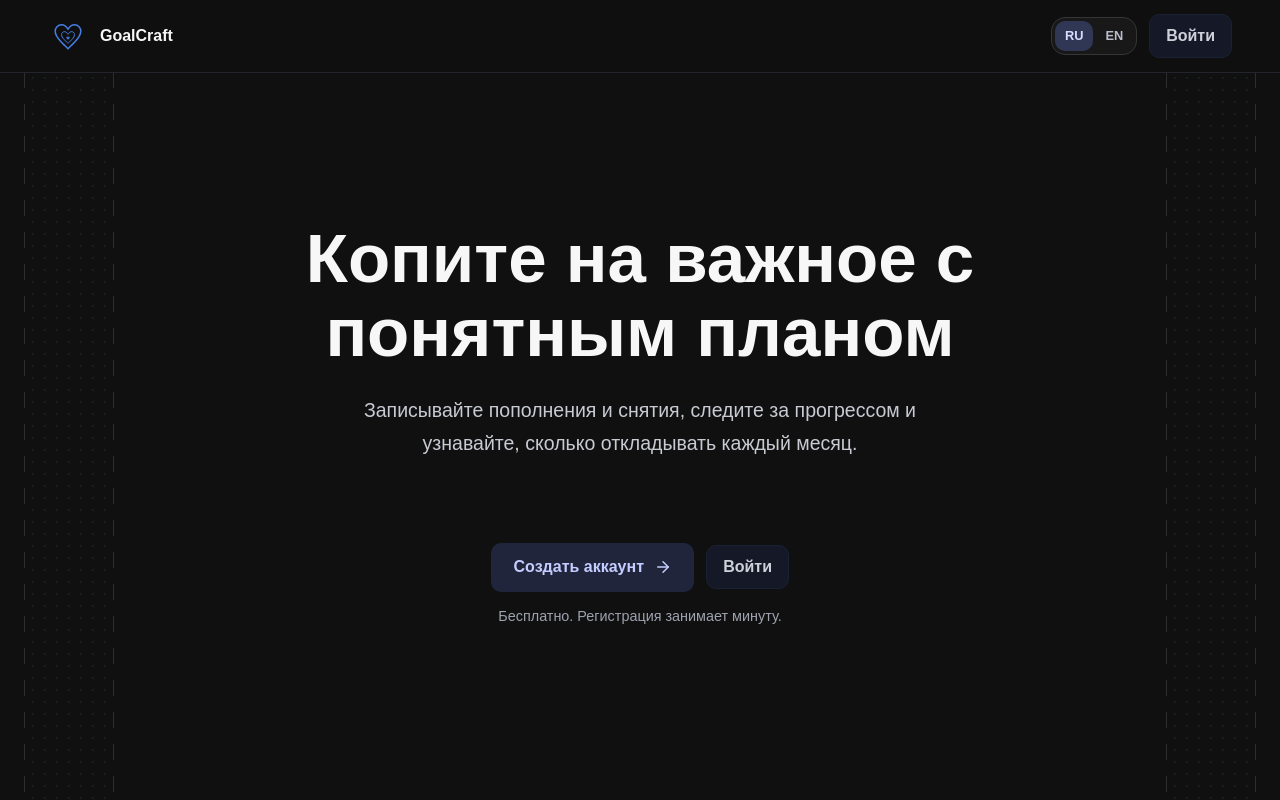
inherits the welcome language and persists profile language changes across navigation
Click the button "EN": point(1114, 36) [1095,21,1133,51]
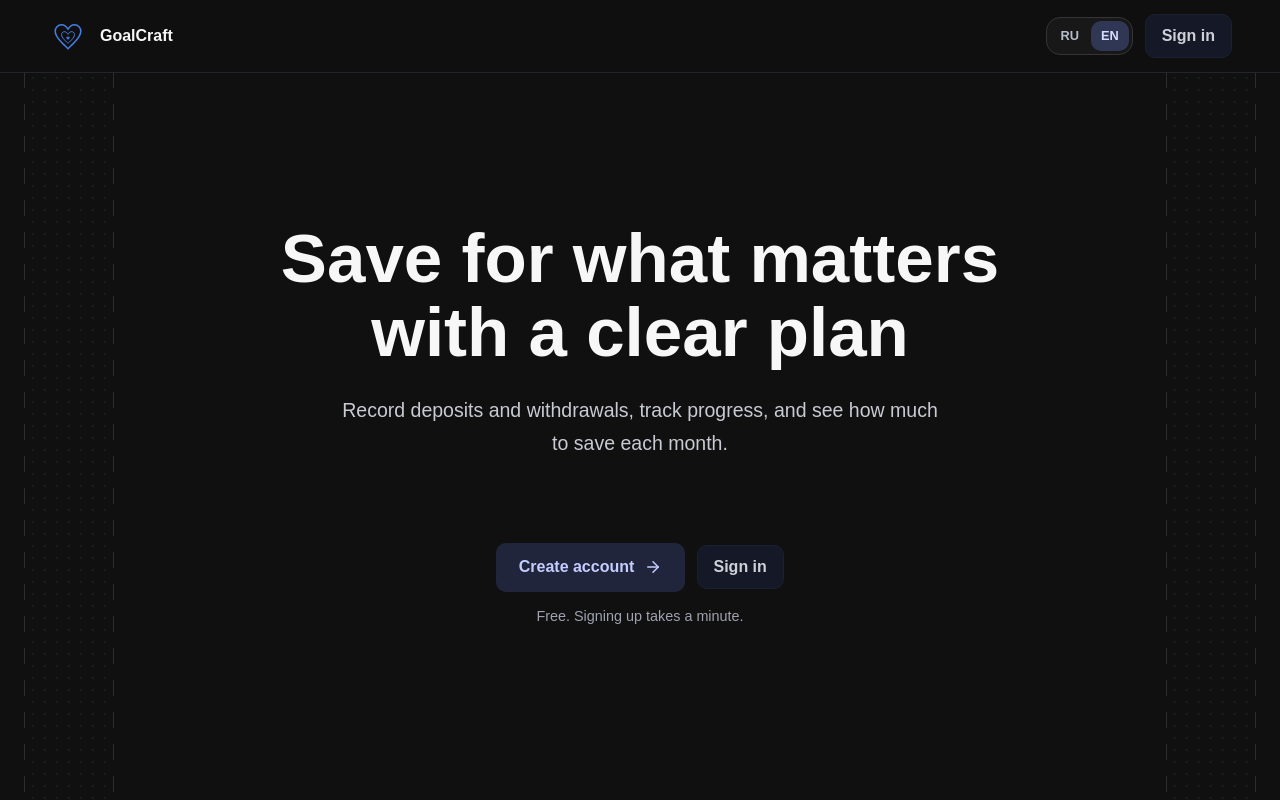
Click the 1st button "Sign in": point(1188, 36) [1145,14,1232,58]
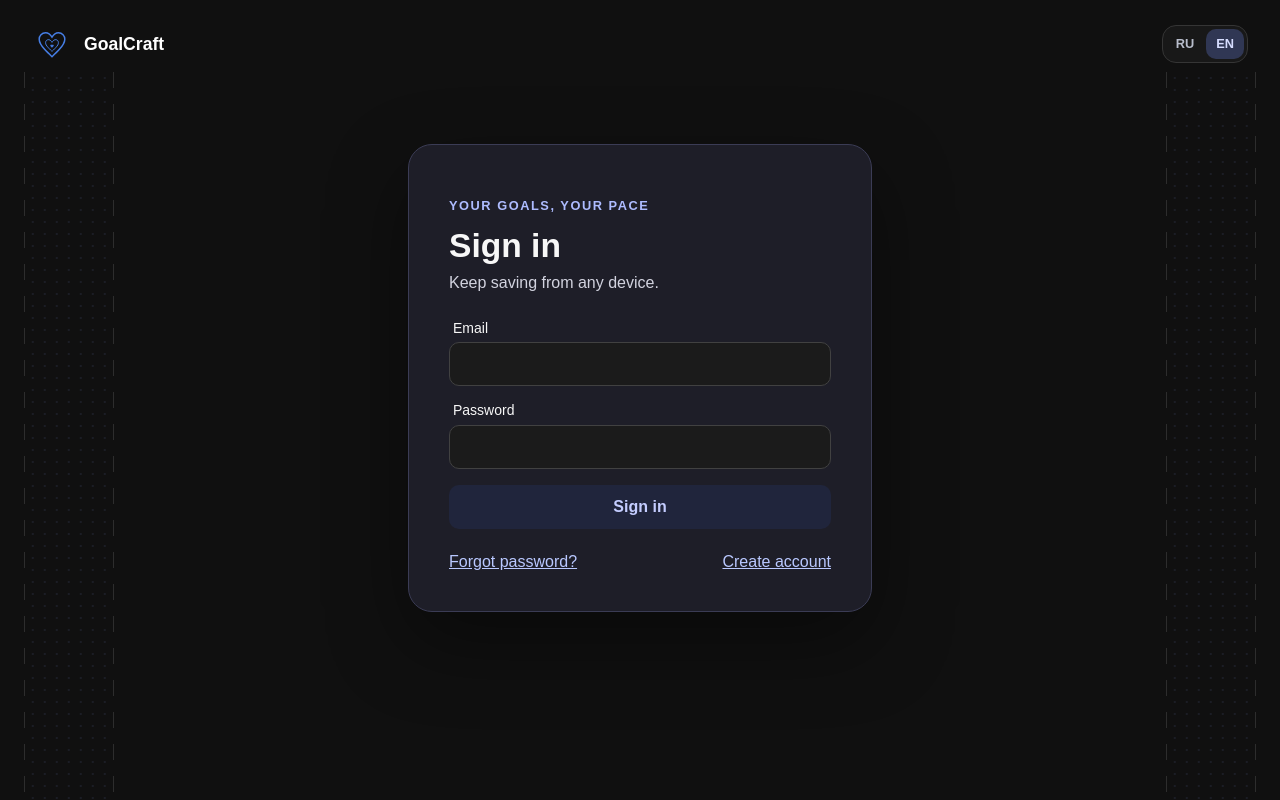
In the field labelled "Email": point(640, 364) [449,342,831,386], type "me@example.test"
In the password field labelled "Password": point(640, 447) [449,425,831,469], type "password123"
Click the button "Sign in": point(640, 507) [449,485,831,529]
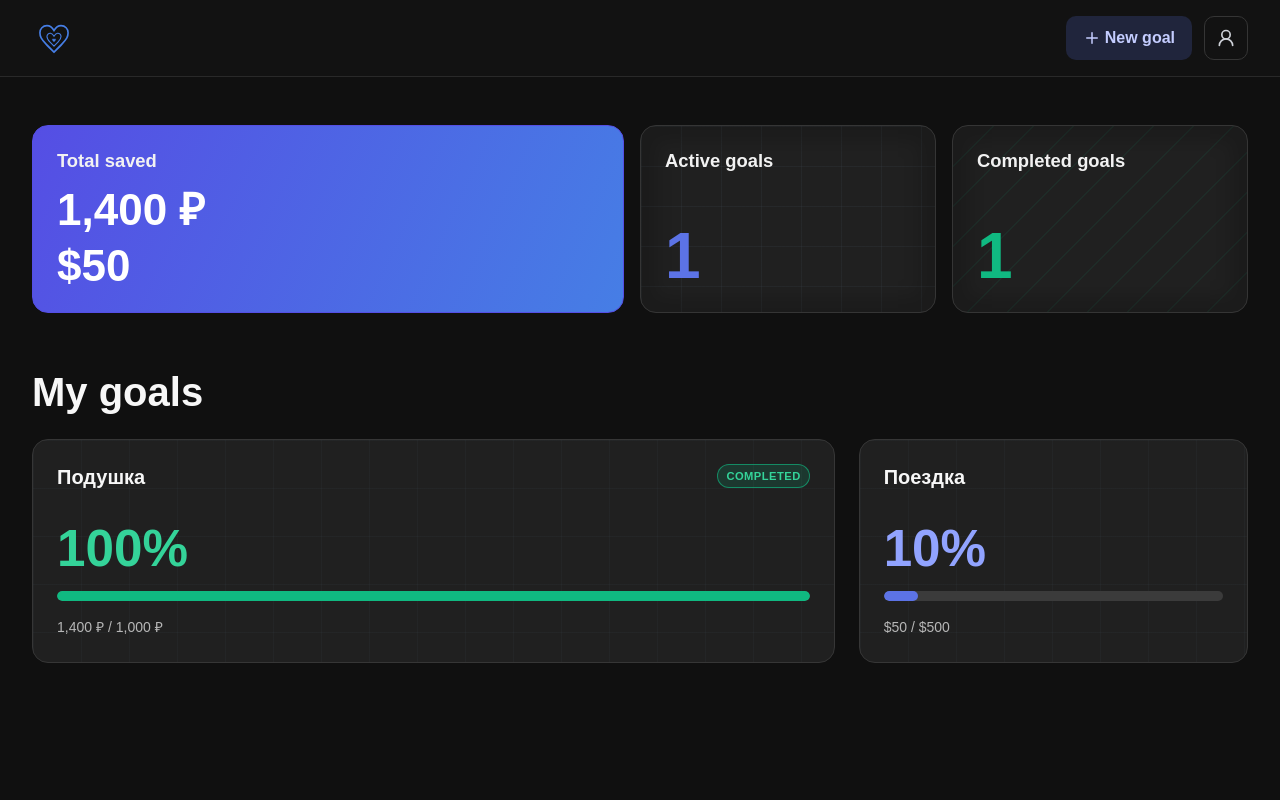
Check: the heading "My goals" is shown, box [32,370,203,414]
Click the link named "Profile": point(1226, 38) [1204,16,1248,60]
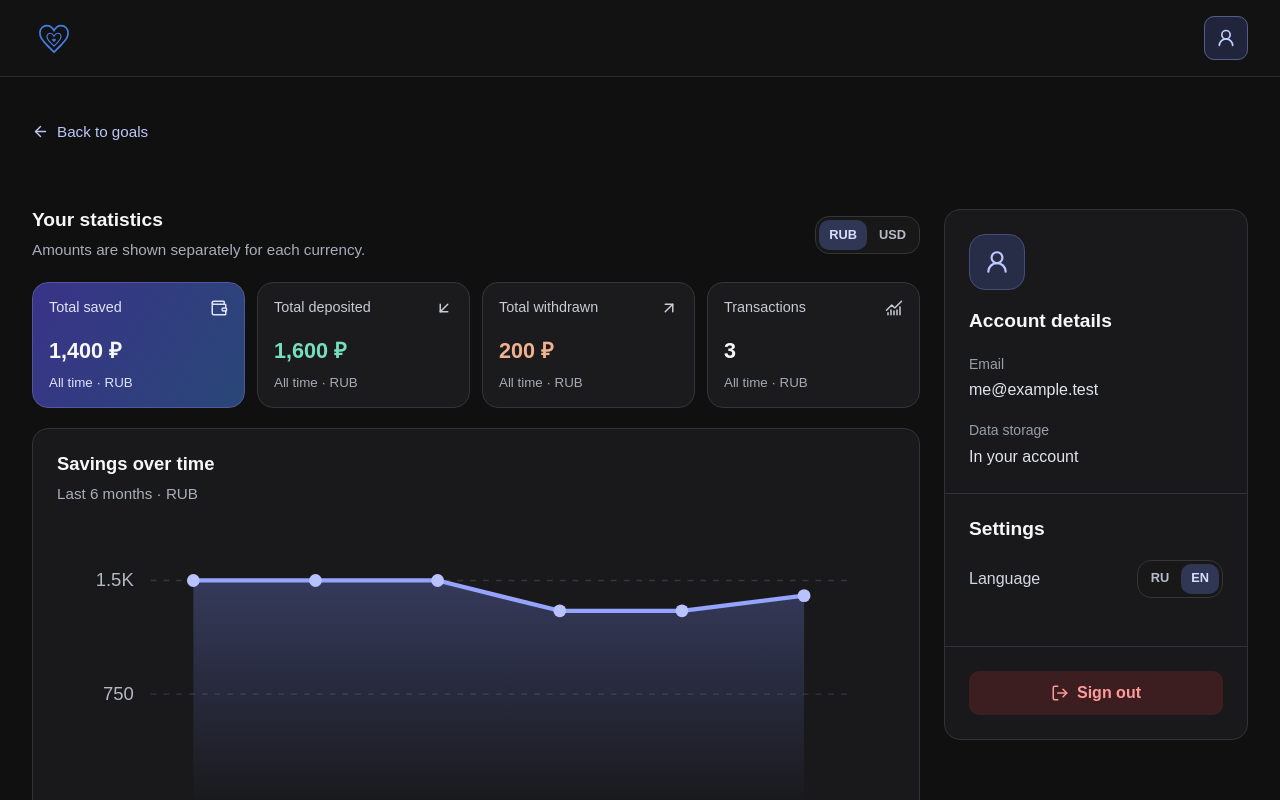
Check: the heading "Your statistics" is shown, box [32,209,163,230]
Click the button "RU": point(1160, 579) [1141,564,1179,594]
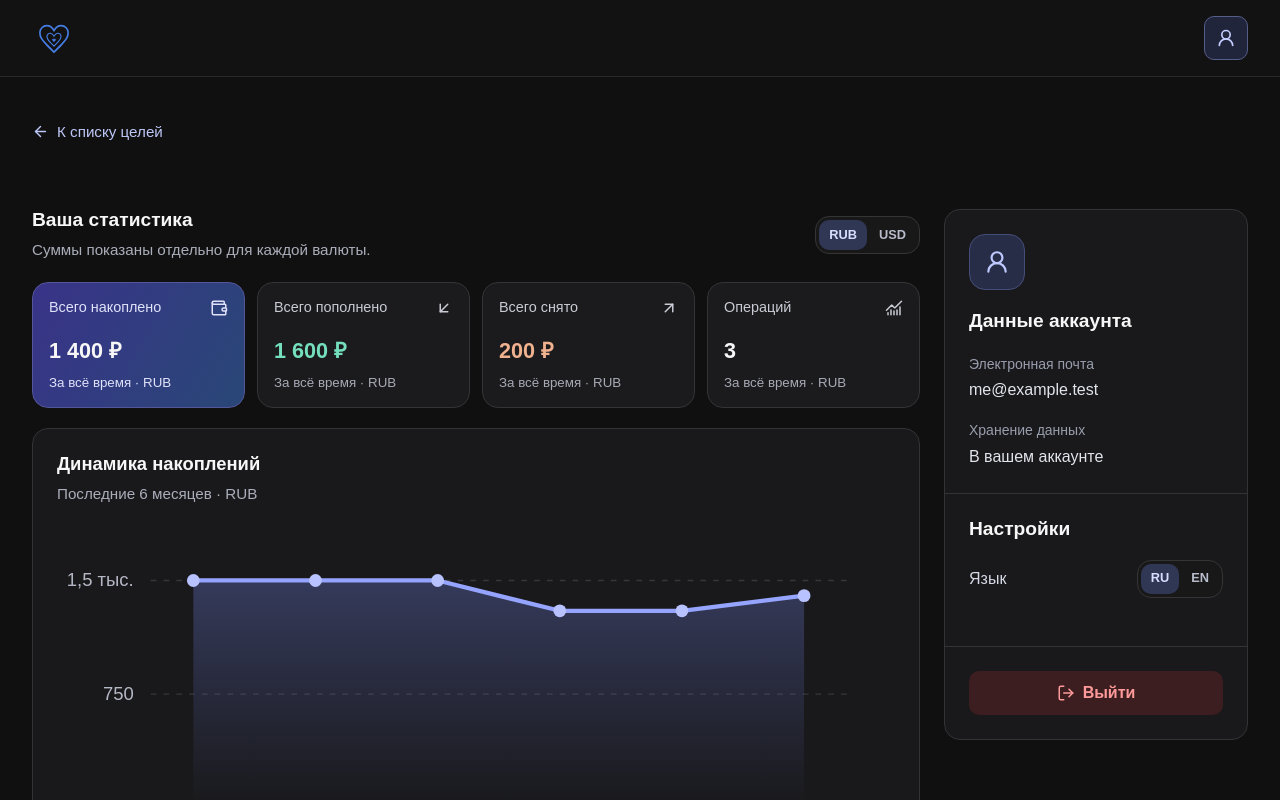
Click the link "К списку целей": point(97, 131) [32,122,163,140]
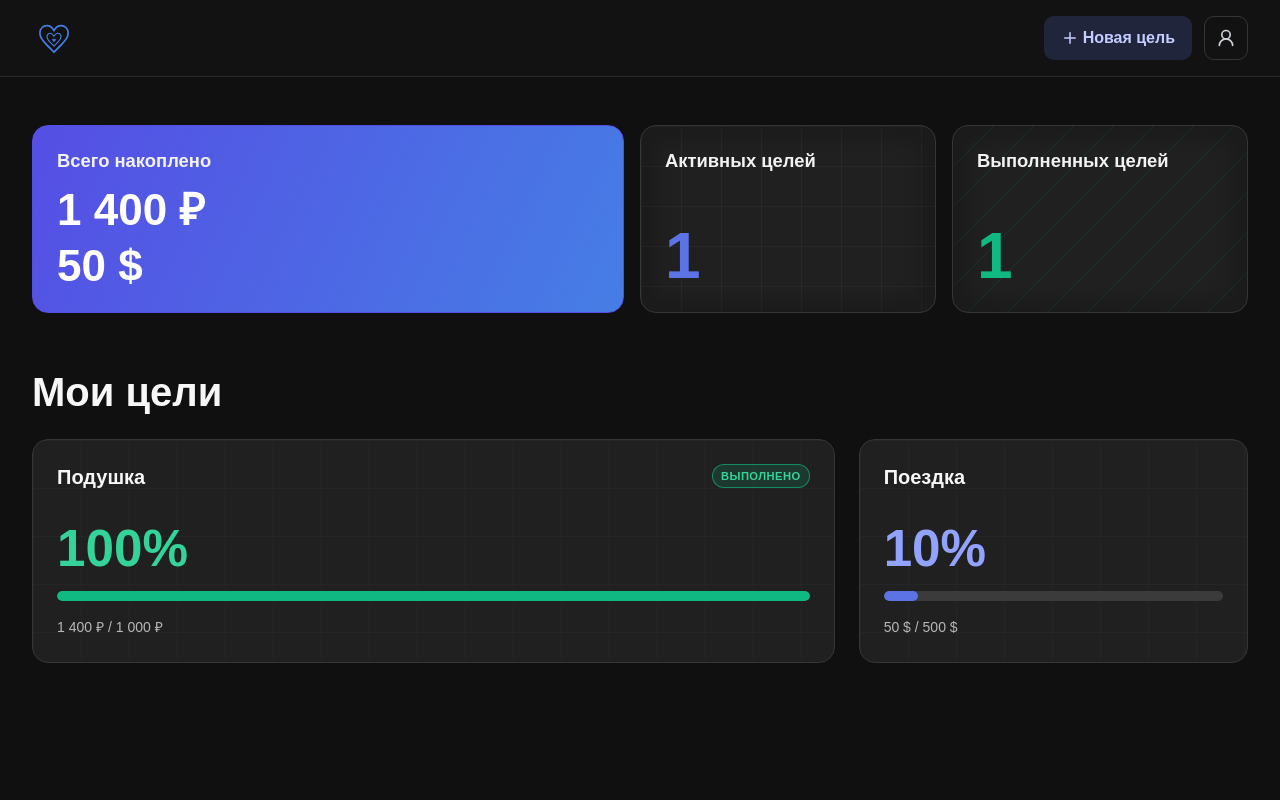
Check: the heading "Мои цели" is shown, box [32,370,222,414]
